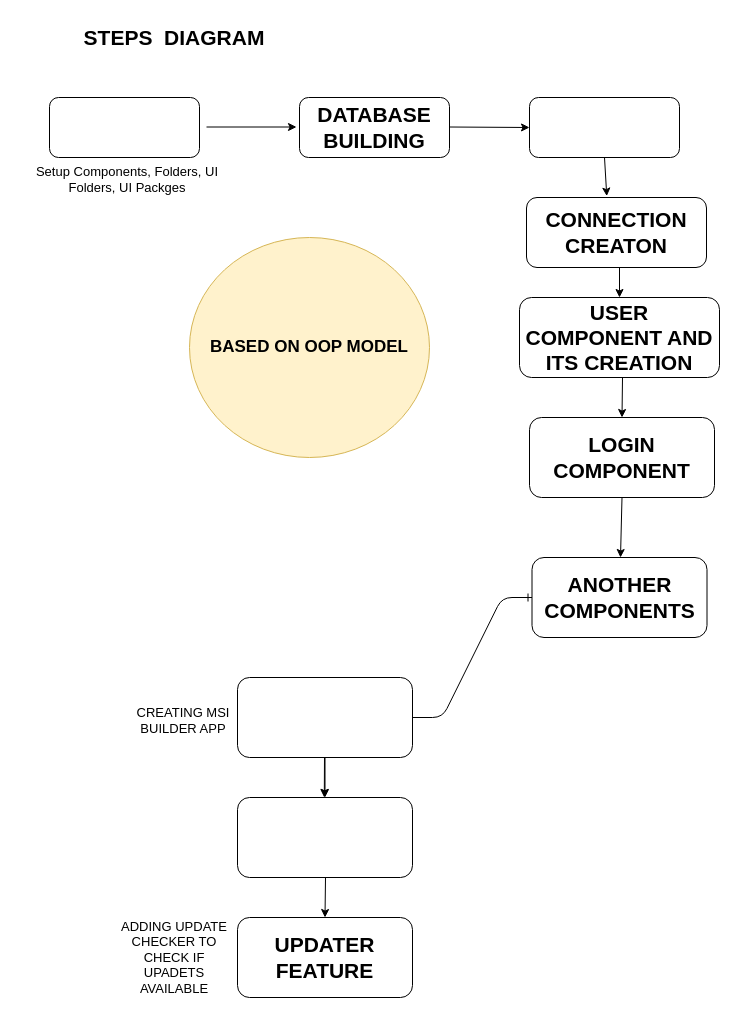
Image size: 737x1015. Some labels were removed from this diagram. The shapes that lost their labels are listed below. From the top down, each one's centre as x and y in pixels, then its label:
At pixel 124 127: "SETUP PROJECT".
At pixel 604 127: "DASHBOARD".
At pixel 324 717: "BUILD SETUP FEATURE".
At pixel 324 837: "PUBLISH".
